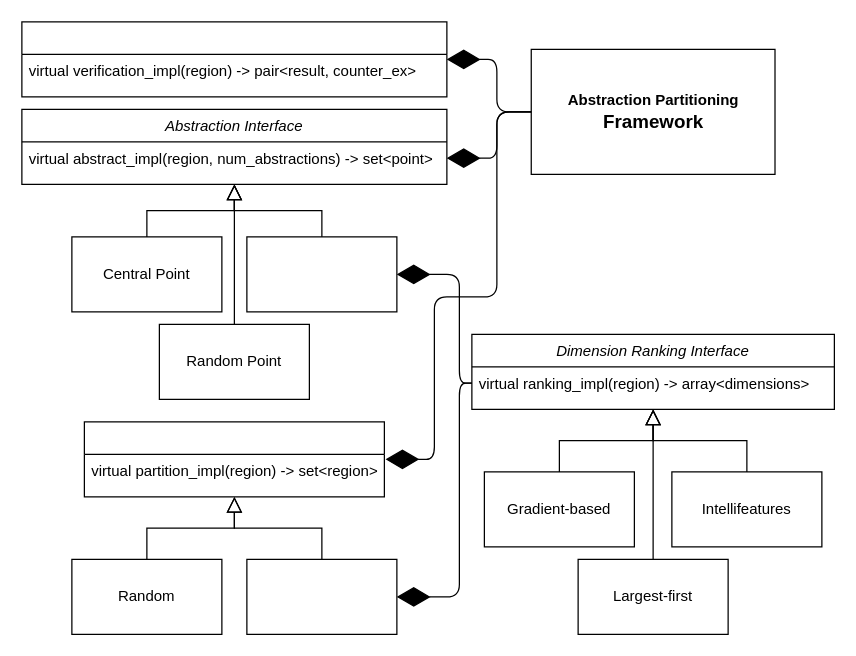
Image size: 856x656. Some labels were removed from this diagram. Here are the shapes that lost their labels. From the top down, the box of each, then its label:
(21, 21, 447, 97): Verification Interface
(246, 236, 397, 312): RFGSM
(83, 421, 384, 497): Partitioning Interface
(246, 558, 397, 634): Dimension Ranking Partitioning
